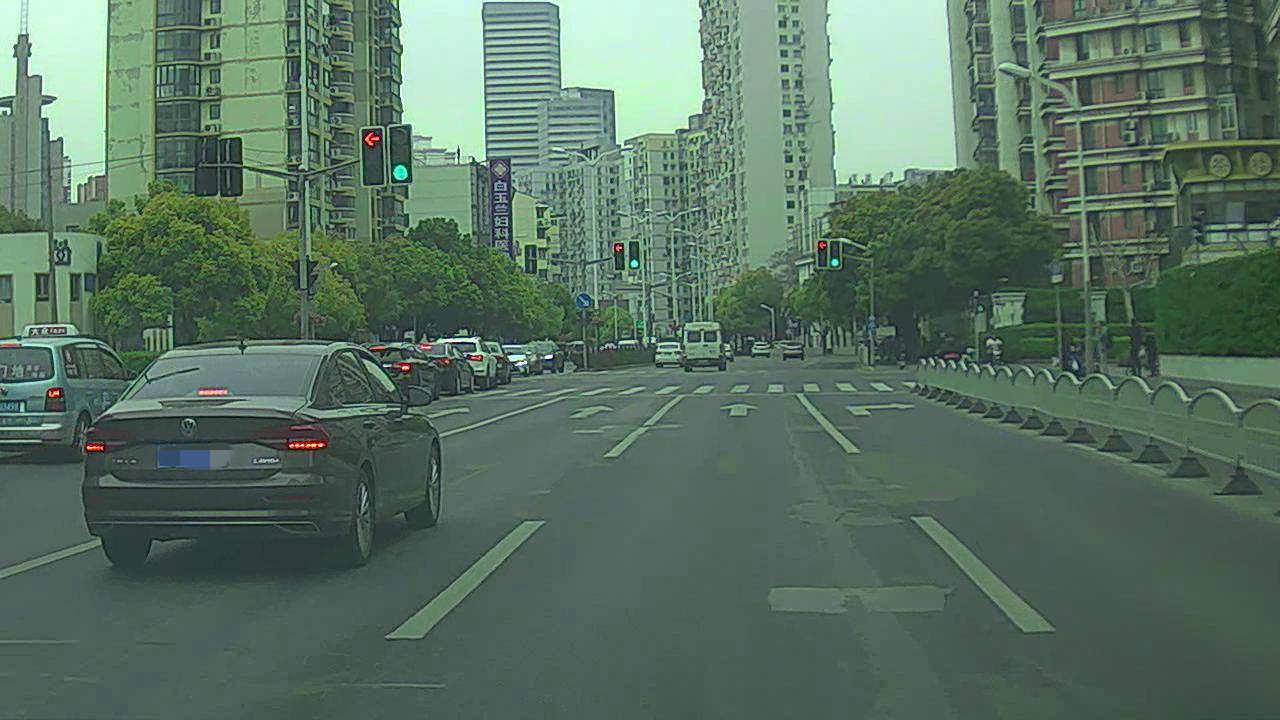traffic_light: (354, 128, 387, 190), (387, 128, 414, 184), (626, 241, 644, 269), (611, 241, 627, 272), (816, 241, 828, 268), (830, 241, 841, 270)
